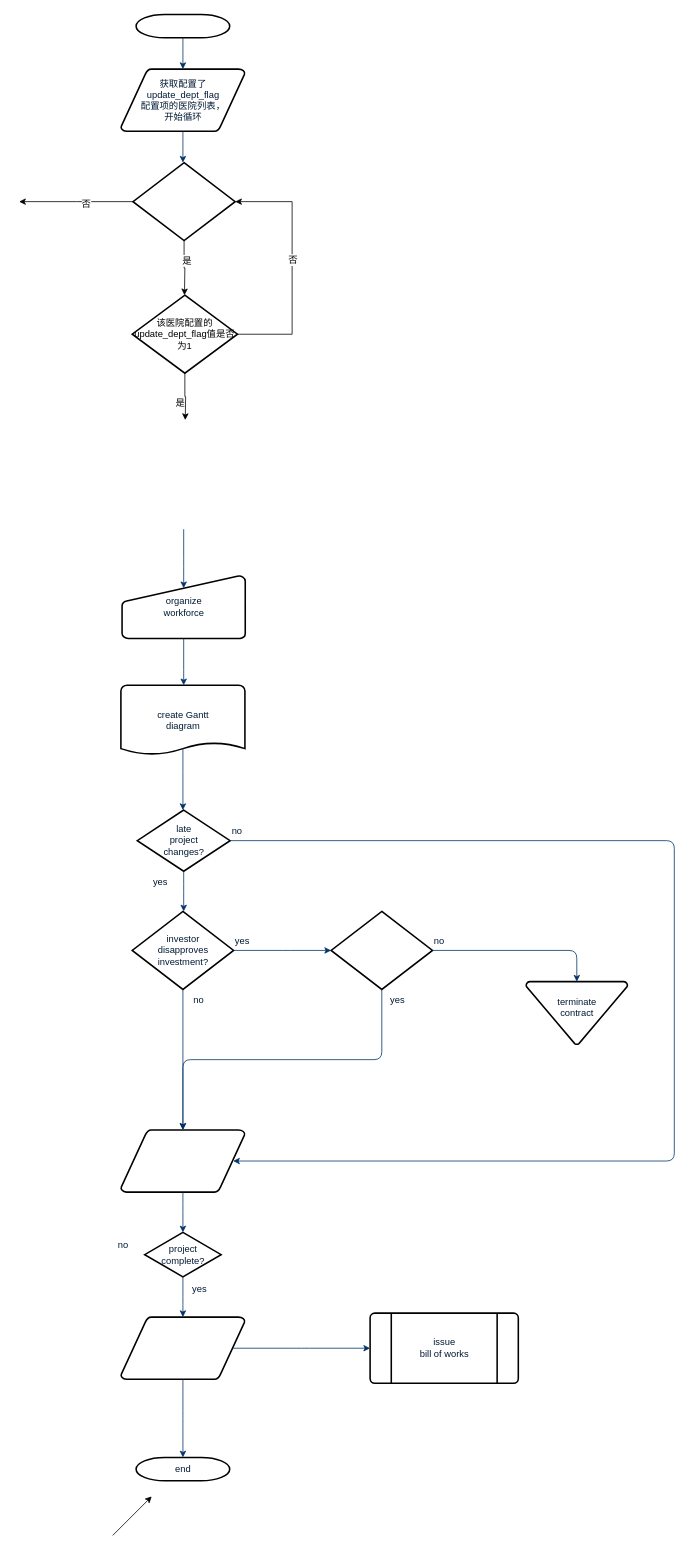
This 694x1555 diagram has some shape labels left out. The shapes that lost their labels are listed below. From the top down, each one's centre as x and y in pixels, then its label:
At (x=182, y=25): "开始".
At (x=184, y=201): "是否有下一家医院？".
At (x=381, y=950): "agreement?".
At (x=182, y=1161): "create status report".
At (x=182, y=1348): "create final report".
